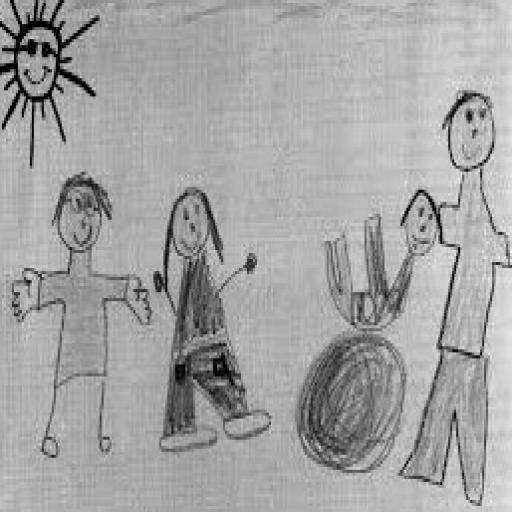person: (390, 72, 512, 497), (10, 164, 156, 464), (146, 184, 280, 462), (320, 184, 452, 344)
